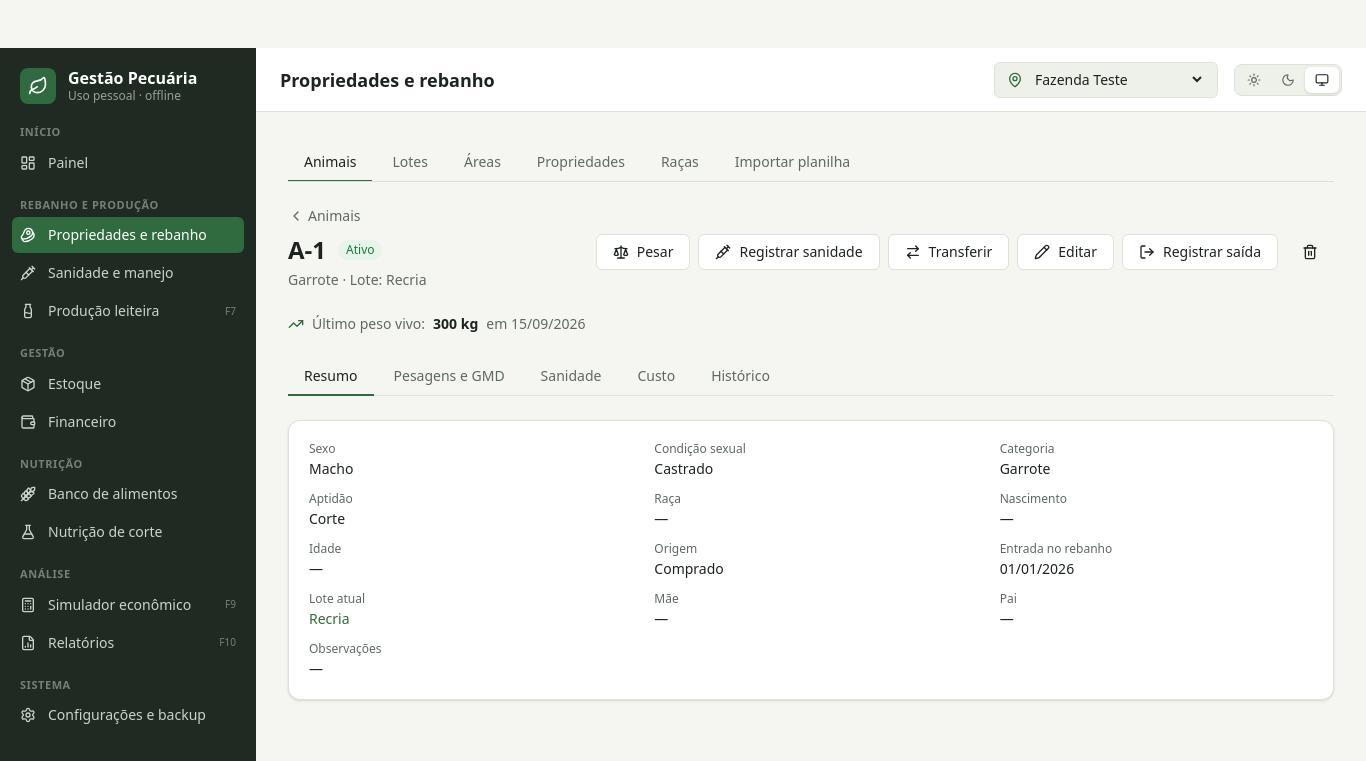
it: ficha do animal: pesagens com gráfico e alerta › o modal de pesagem avisa antes de salvar e a correção exige motivo
(page scrolled)
Click the tab "Pesagens e GMD": (449, 377) top-left (378, 358), bottom-right (521, 396)
(page scrolled)
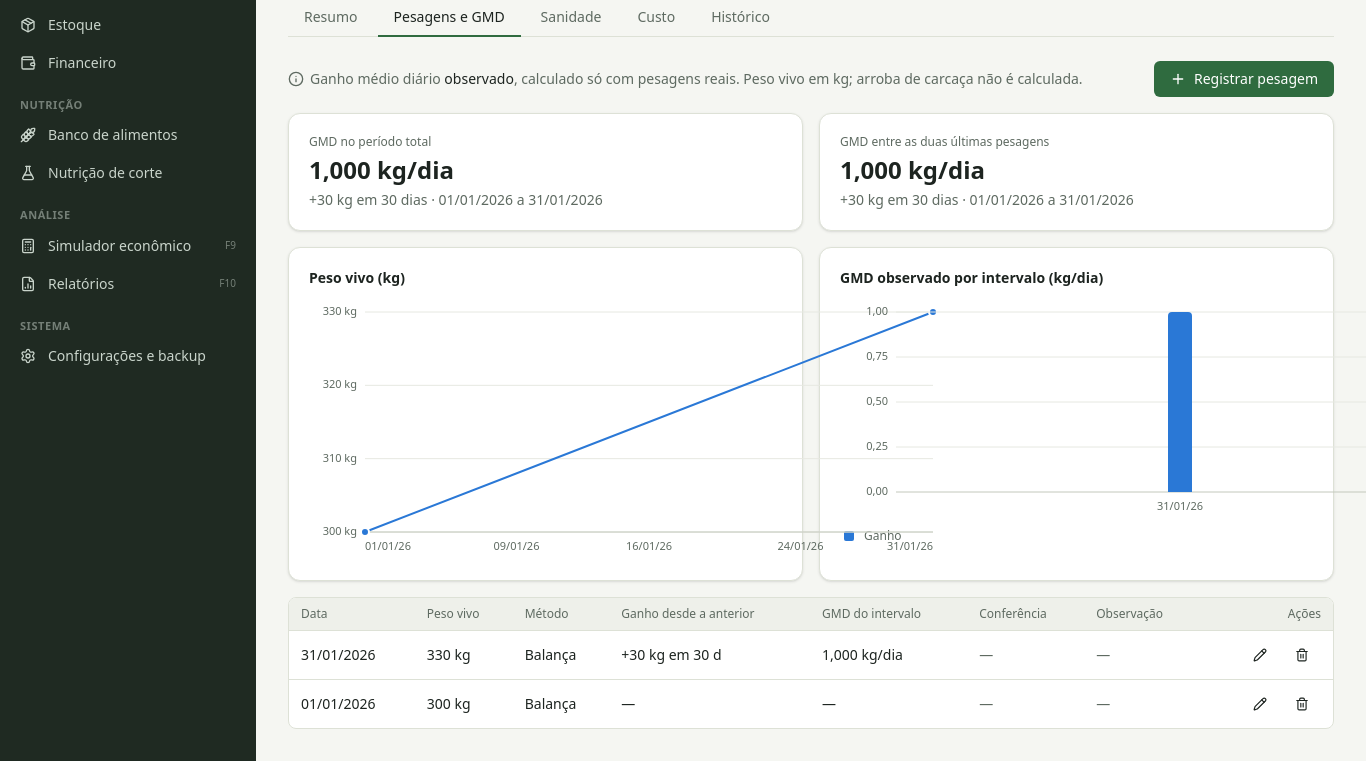
Click the button named "Corrigir pesagem de 31/01/2026": (1260, 655) top-left (1241, 639), bottom-right (1279, 671)
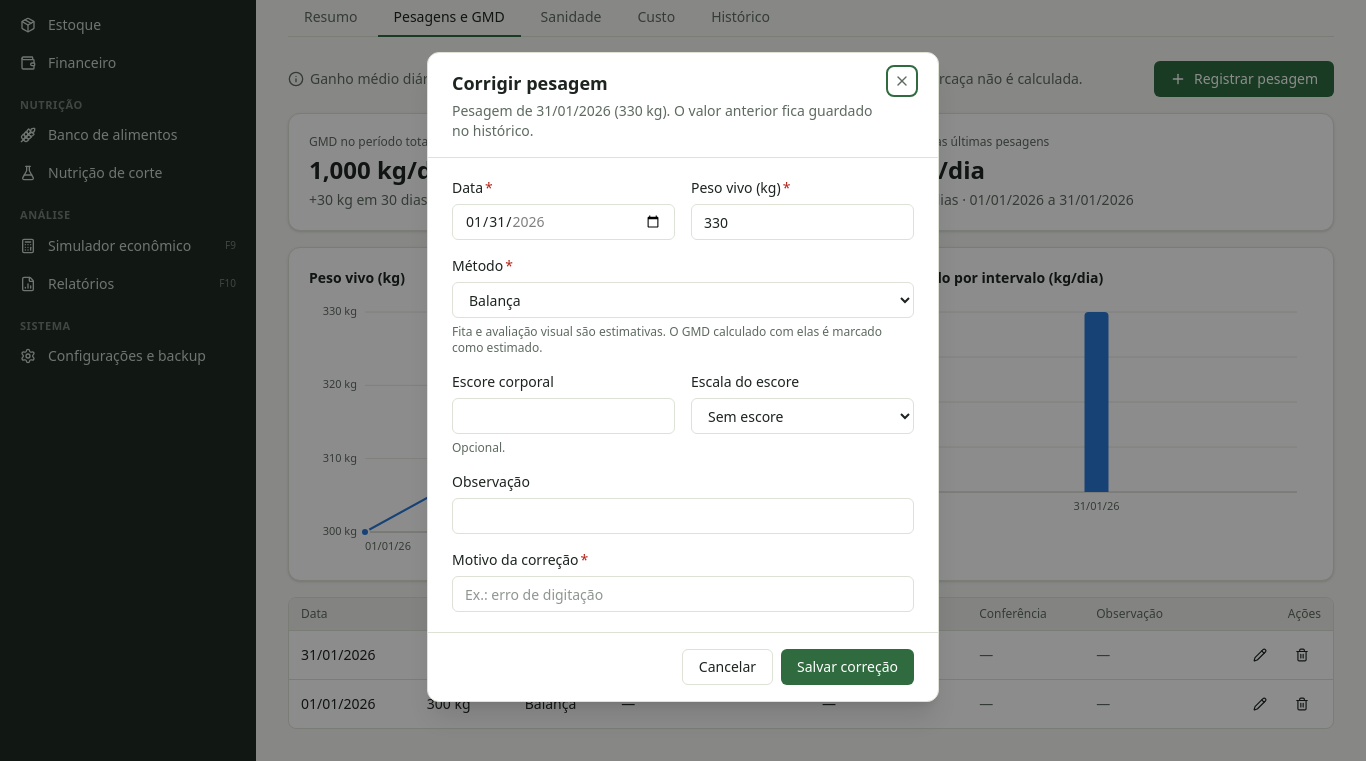
Replace the text in the field labelled "Peso vivo (kg)*" with "3300": (802, 222) top-left (691, 204), bottom-right (914, 240)
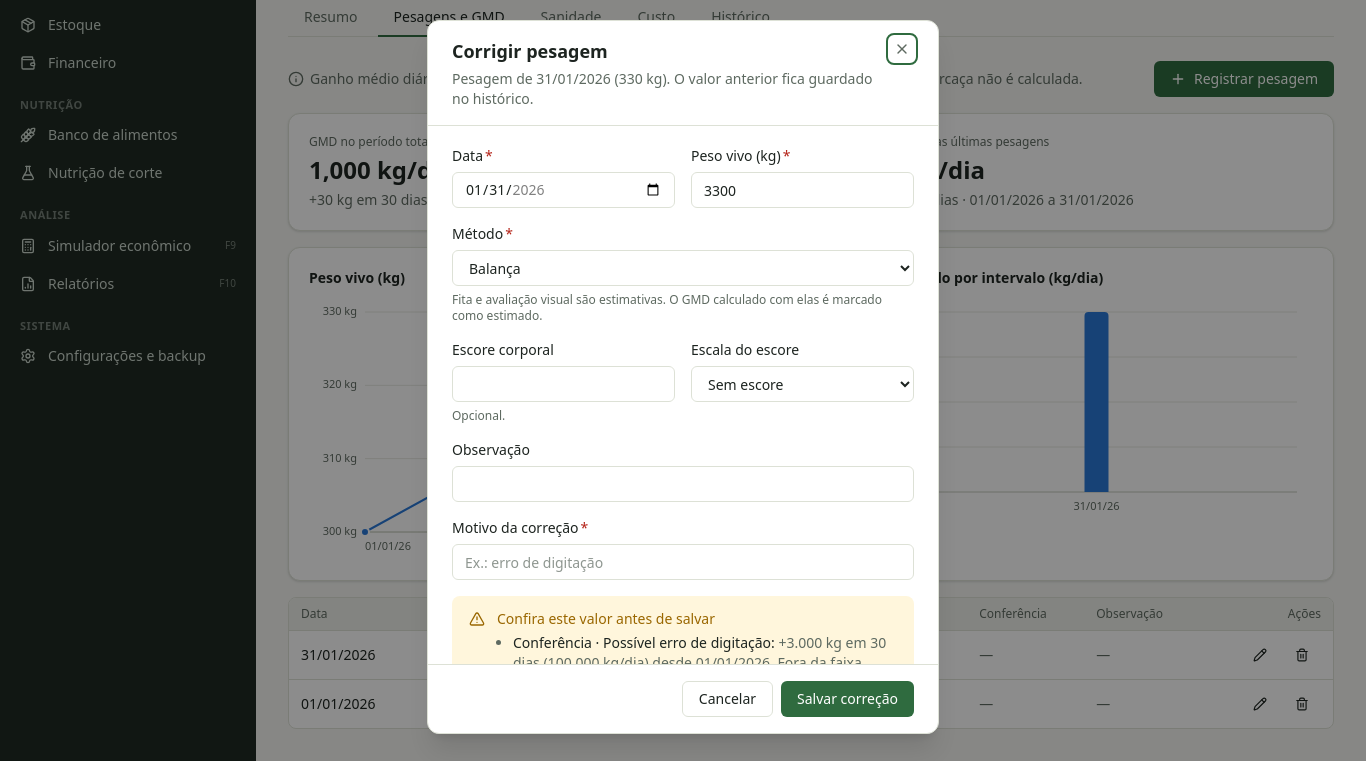
Click the button "Salvar correção": (848, 699) top-left (781, 681), bottom-right (914, 717)
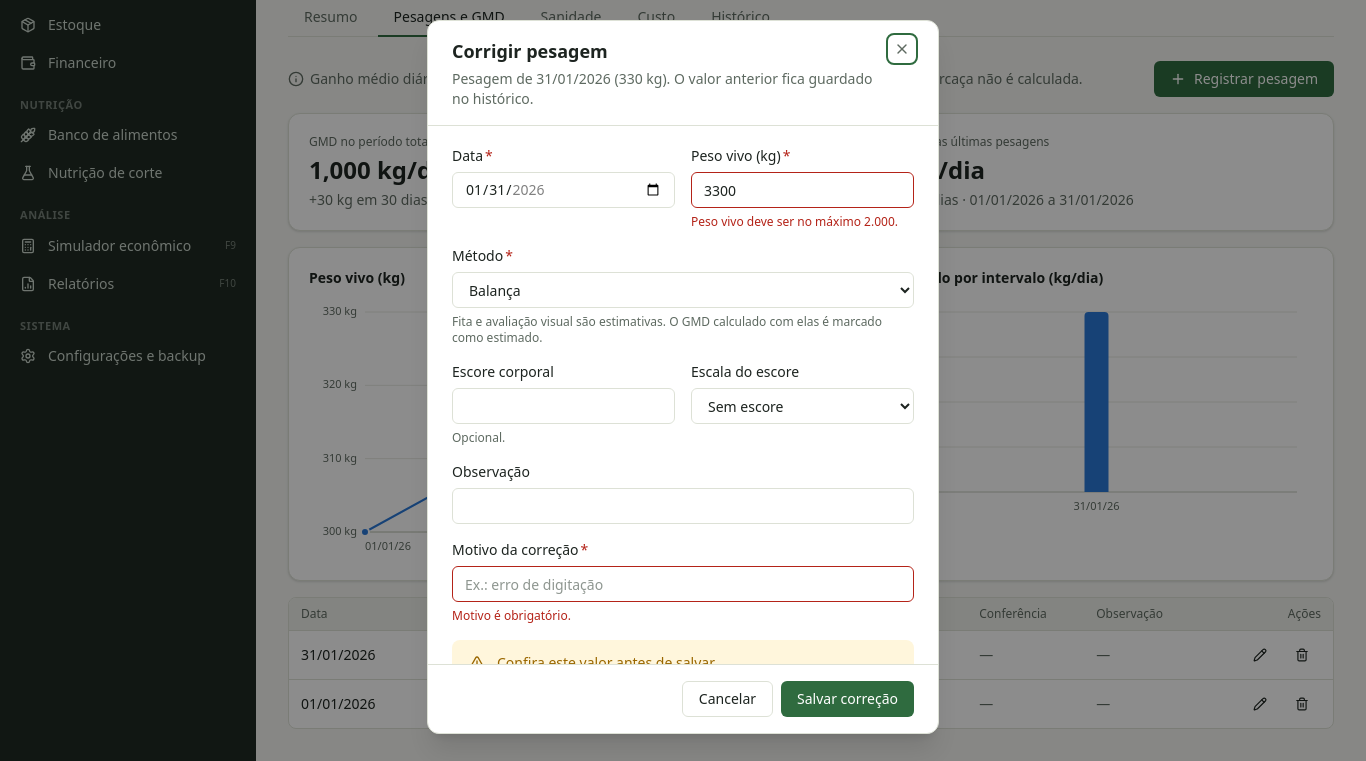
Now the text "Motivo é obrigatório." is shown, box top-left (452, 607), bottom-right (571, 624)
